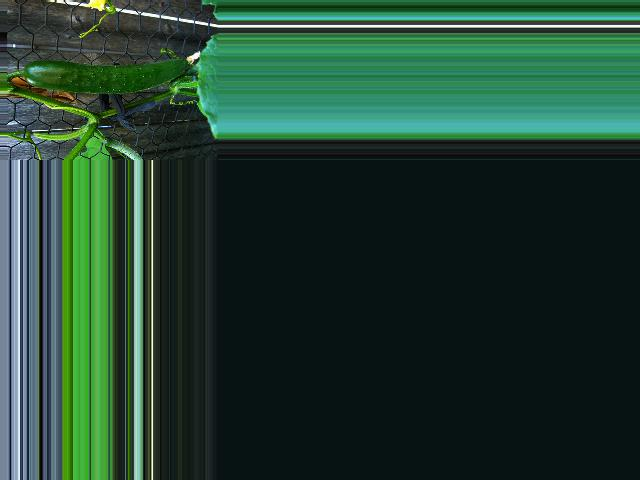cucumber: (23, 58, 186, 94)
